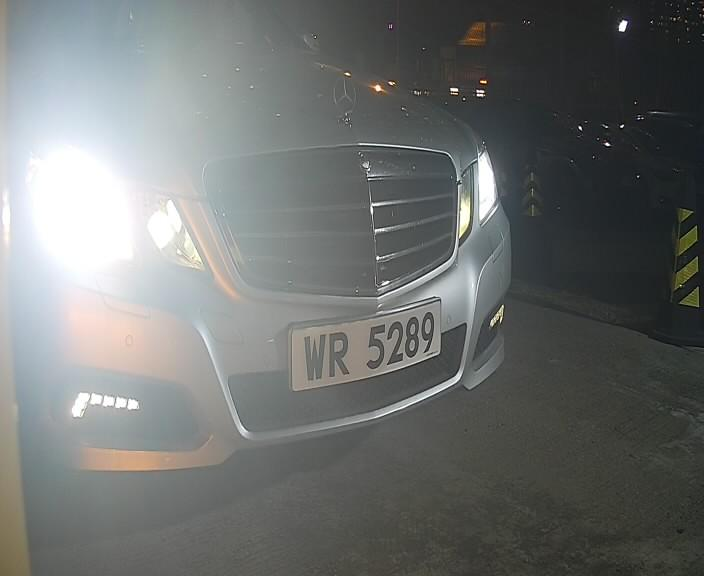License Plate: (293, 294, 450, 394)
